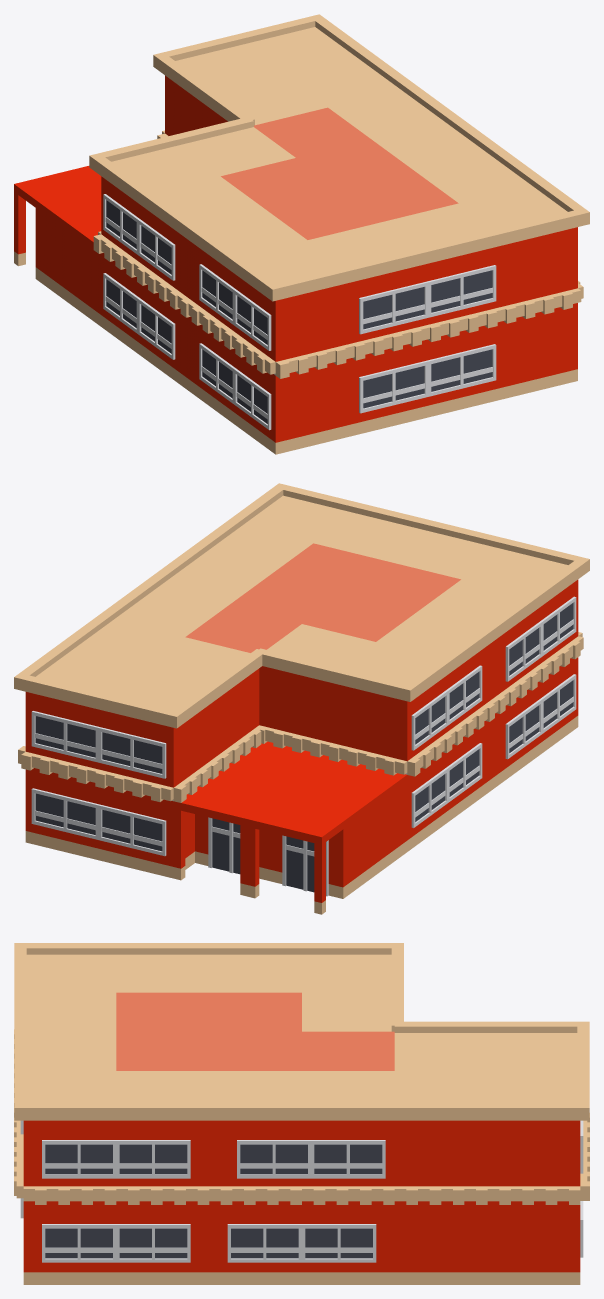
The model's file is Ecole.fbx.
3 views of the same model, one above another, from view 1: azimuth 30°, elevation 25°; view 2: azimuth 150°, elevation 25°; view 3: azimuth 270°, elevation 25° (orthographic). The views are drawn at different scales.
Visible parts, largest first — view 1: block_550, block_571, block_546, block_columns_528, roof_flat_largeCorner_579, roof_flat_largeCorner_580, roof_flat_largeCorner_576, roof_flat_largeCorner_572, block_568, roof_flat_largeCorner_573, block_529, roof_flat_largeSide_588 (+45 smaller); view 2: block_columns_528, block_529, block_columns_526, block_556, roof_flat_largeCorner_576, roof_flat_largeCorner_572, block_552, roof_flat_largeCorner_573, block_555, roof_flat_largeCorner_579, roof_flat_largeCorner_580, roof_flat_largeSide_587 (+50 smaller); view 3: block_530, block_531, block_558, block_551, roof_flat_largeCorner_573, roof_flat_largeCorner_580, roof_flat_largeCorner_579, roof_flat_largeCorner_572, roof_flat_largeCorner_576, block_542, block_546, block_533 (+36 smaller).
Part boxes in pixels (x1=…): block_550: x1=232, y1=348, x2=351, y2=454; block_571: x1=232, y1=272, x2=351, y2=375; block_546: x1=502, y1=303, x2=577, y2=399; block_columns_528: x1=14, y1=166, x2=101, y2=294; roof_flat_largeCorner_579: x1=224, y1=240, x2=355, y2=301; roof_flat_largeCorner_580: x1=459, y1=177, x2=589, y2=244; roof_flat_largeCorner_576: x1=89, y1=135, x2=219, y2=201; roof_flat_largeCorner_572: x1=153, y1=34, x2=283, y2=101; block_568: x1=502, y1=227, x2=577, y2=306; roof_flat_largeCorner_573: x1=236, y1=14, x2=366, y2=75; block_529: x1=57, y1=205, x2=101, y2=326; roof_flat_largeSide_588: x1=308, y1=222, x2=431, y2=280; block_columns_528: x1=247, y1=788, x2=364, y2=914; block_529: x1=291, y1=759, x2=407, y2=882; block_columns_526: x1=173, y1=770, x2=289, y2=896; block_556: x1=333, y1=673, x2=449, y2=774; roof_flat_largeCorner_576: x1=329, y1=642, x2=457, y2=701; roof_flat_largeCorner_572: x1=95, y1=668, x2=223, y2=728; block_552: x1=99, y1=700, x2=216, y2=800; roof_flat_largeCorner_573: x1=14, y1=643, x2=141, y2=708; block_555: x1=259, y1=666, x2=333, y2=742; roof_flat_largeCorner_579: x1=462, y1=539, x2=589, y2=604; roof_flat_largeCorner_580: x1=232, y1=483, x2=359, y2=543; roof_flat_largeSide_587: x1=314, y1=503, x2=433, y2=561; block_530: x1=487, y1=1201, x2=580, y2=1284; block_531: x1=394, y1=1201, x2=487, y2=1284; block_558: x1=394, y1=1120, x2=487, y2=1186; block_551: x1=487, y1=1120, x2=580, y2=1186; roof_flat_largeCorner_573: x1=487, y1=1064, x2=589, y2=1120; roof_flat_largeCorner_580: x1=14, y1=1064, x2=116, y2=1120; roof_flat_largeCorner_579: x1=14, y1=943, x2=116, y2=992; roof_flat_largeCorner_572: x1=487, y1=1021, x2=589, y2=1070; roof_flat_largeCorner_576: x1=302, y1=943, x2=403, y2=992; block_542: x1=116, y1=1201, x2=209, y2=1284; block_546: x1=23, y1=1201, x2=116, y2=1284; block_533: x1=209, y1=1201, x2=301, y2=1284.
Size of the model in its own units: 42.05 by 21.5 by 62.05.
